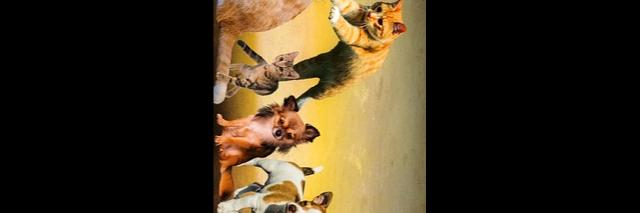Non_Gorille: (213, 0, 426, 213)
